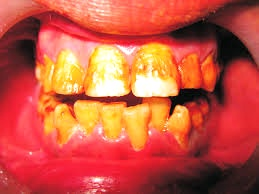Tooth Discoloration: (37, 41, 218, 153)
